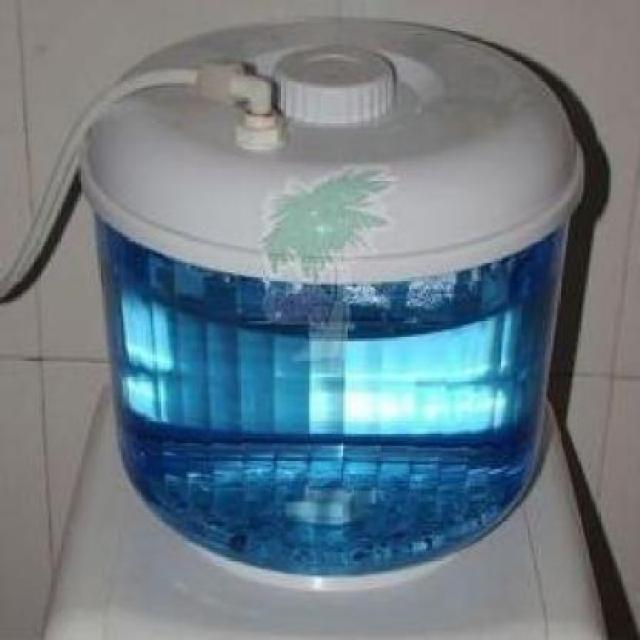coolerbottle: (74, 14, 595, 579)
